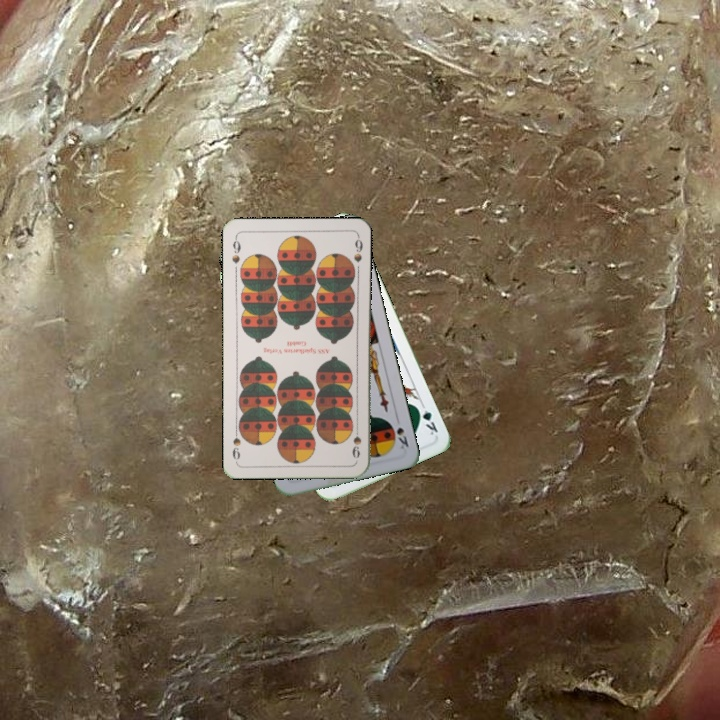GK: (412, 402, 441, 438)
S9: (348, 422, 363, 461), (228, 233, 243, 266)
SK: (392, 412, 411, 452)
